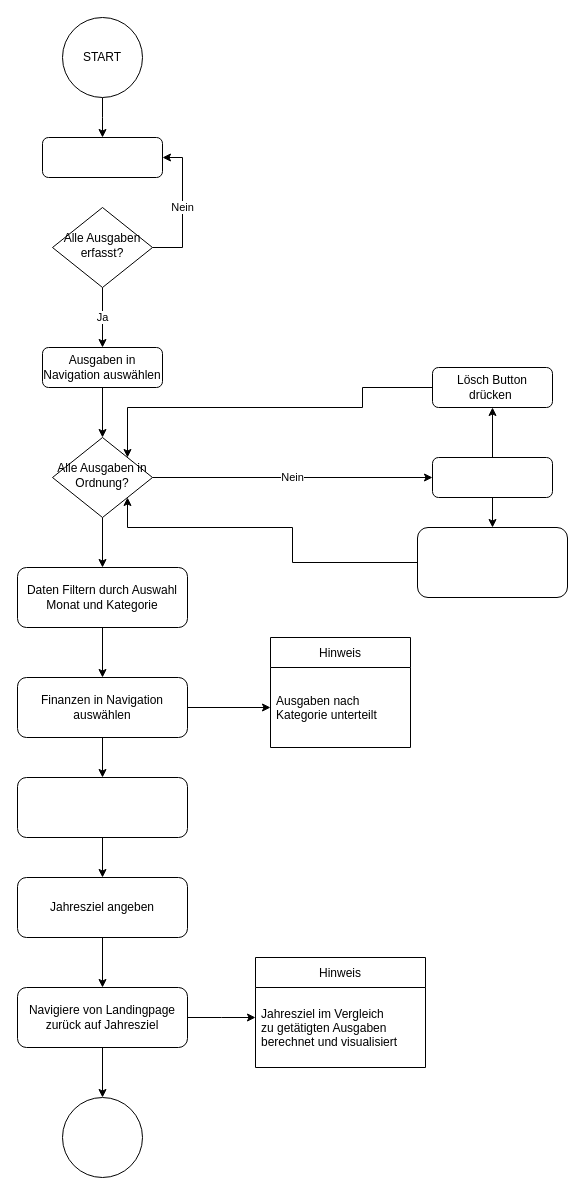
This 585x1195 diagram has some shape labels left out. Here are the shapes that lost their labels. From the top down, the centre of each, then its label:
At point 102,157: "Ausgabeformular erfassen".
At point 492,477: "Startseite anwählen".
At point 492,562: "Eingabe mit - Betrag eingeben (Hinweis beachten".
At point 102,807: "Jahresziel in Navigation auswählen".
At point 102,1137: "ENDE".
